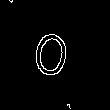O_S: (32, 23, 78, 87)
